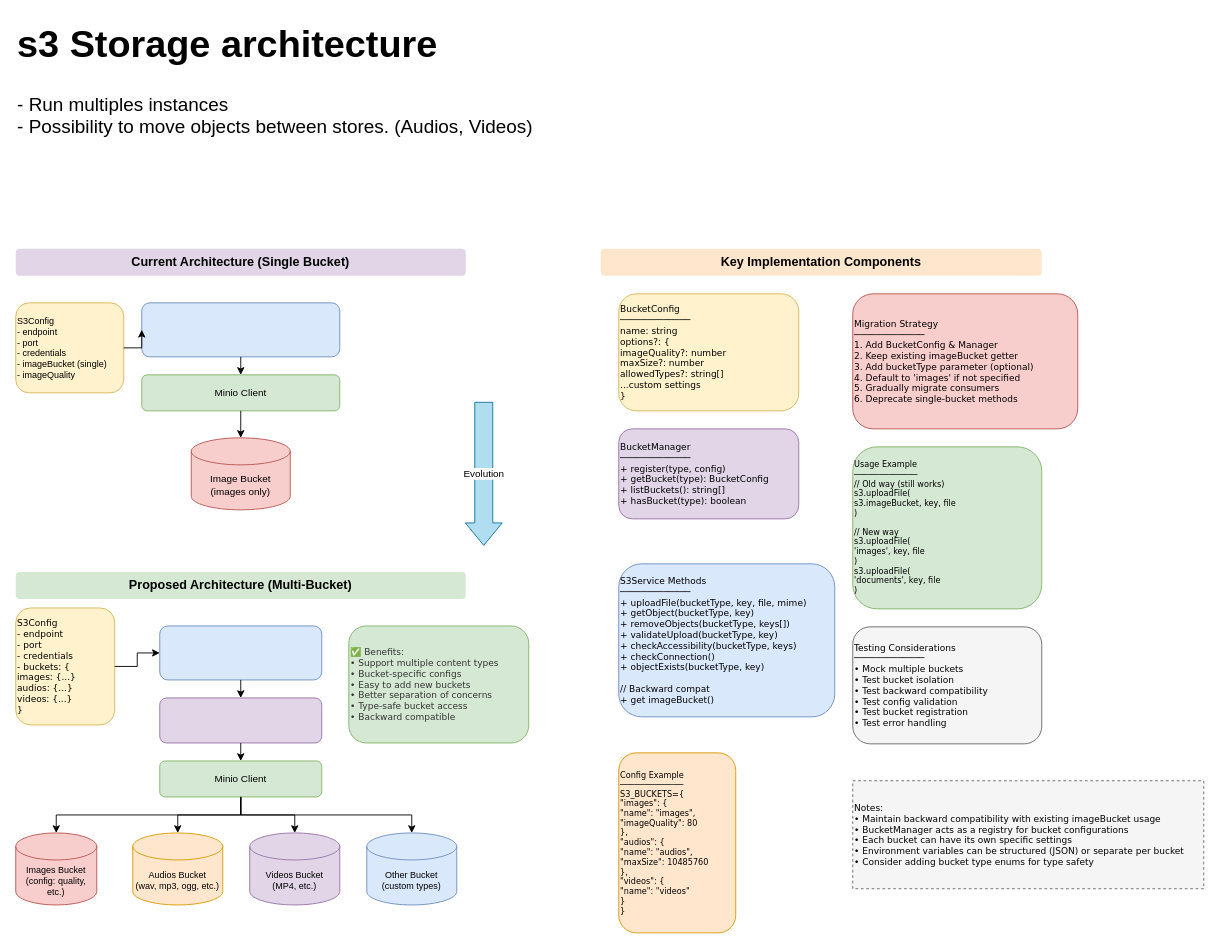
Image size: 1220x949. Some labels were removed from this diagram. The shapes that lost their labels are listed below. From the top down, each one's centre as x and y in pixels, then its label:
At point (240, 329): "S3Service".
At point (240, 652): "S3Service (Generic)".
At point (240, 720): "Bucket Manager (Registry)".
